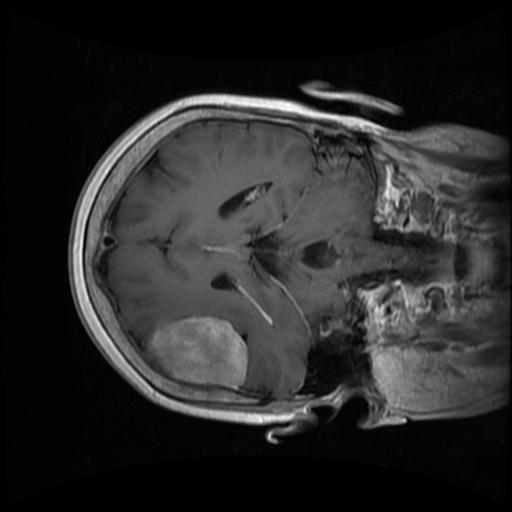meningioma: (143, 315, 249, 392)
